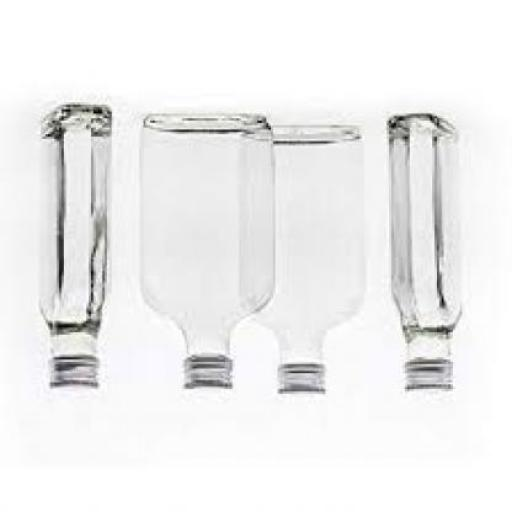glass: (139, 114, 273, 360), (241, 125, 362, 366), (36, 107, 109, 362), (389, 116, 458, 366)
metal: (180, 357, 230, 394), (269, 366, 325, 398), (48, 359, 96, 394), (400, 364, 448, 394)
